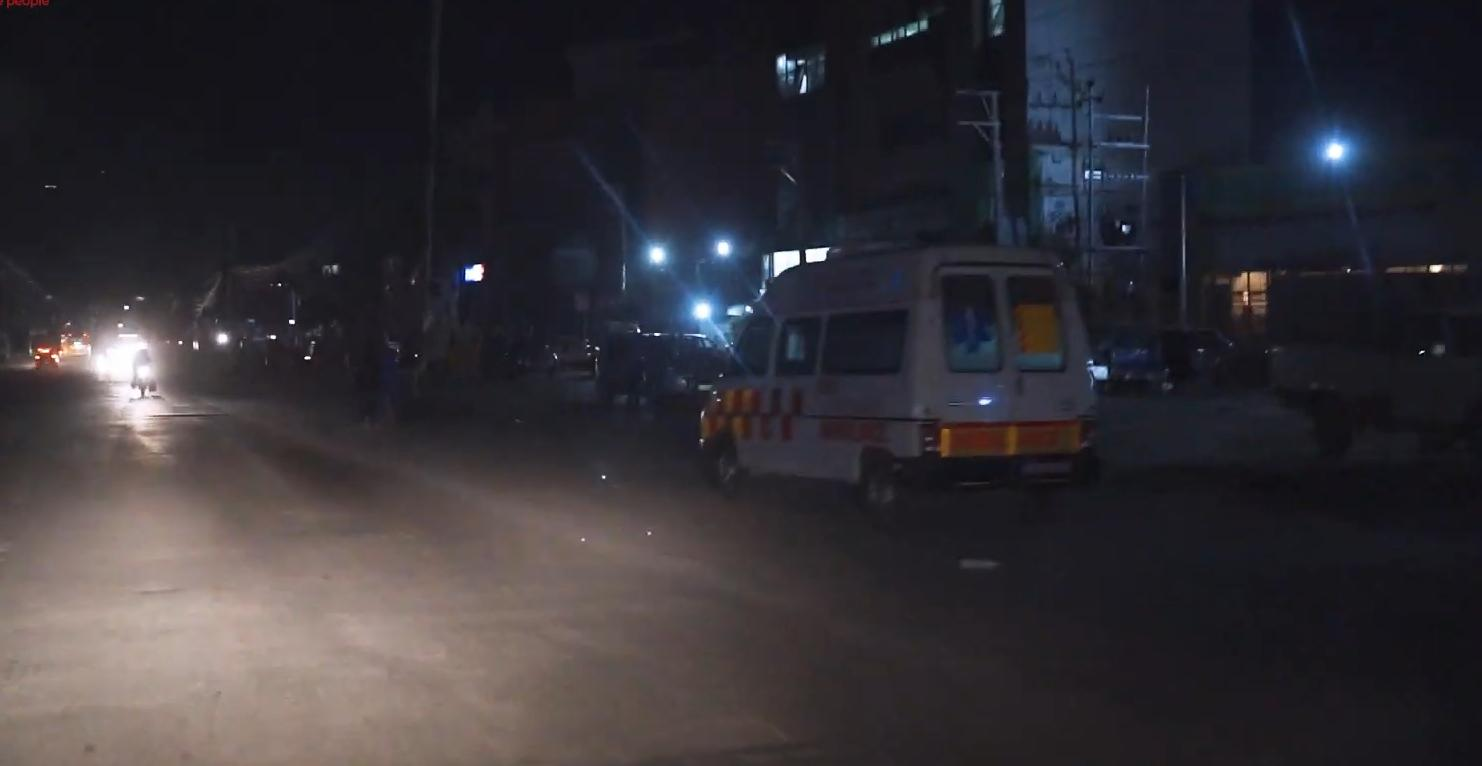ambulance: (689, 228, 1122, 539)
